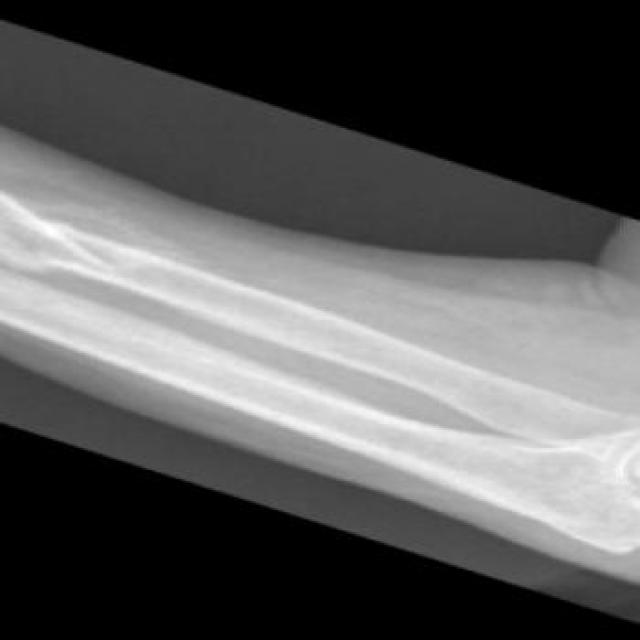Fracture: (44, 221, 123, 282)
